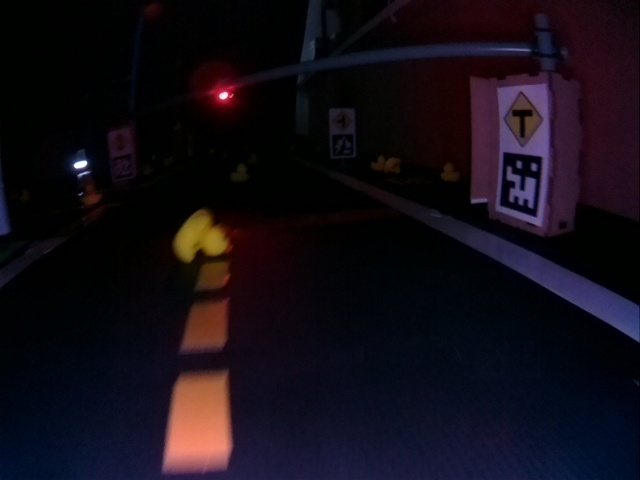Duckie: (173, 209, 232, 262), (386, 156, 403, 174), (371, 153, 386, 170)
Intersection sign: (502, 89, 544, 146), (332, 110, 354, 129)
QR code: (499, 154, 542, 219), (331, 134, 356, 159), (112, 157, 132, 177)
